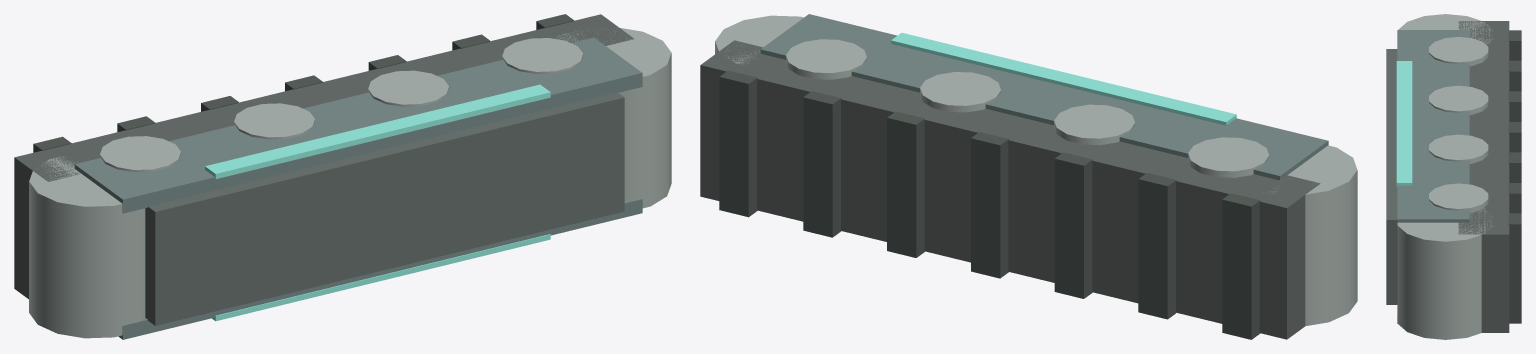
Rendered from track_pad.gltf.
The picture shows the model from 3 angles, left to right: view 1: azimuth 30°, elevation 25°; view 2: azimuth 150°, elevation 25°; view 3: azimuth 270°, elevation 25°; orthographic projection. The views are drawn at different scales.
Bounding box in the file's own units: 0.746 × 0.168 × 0.187.
